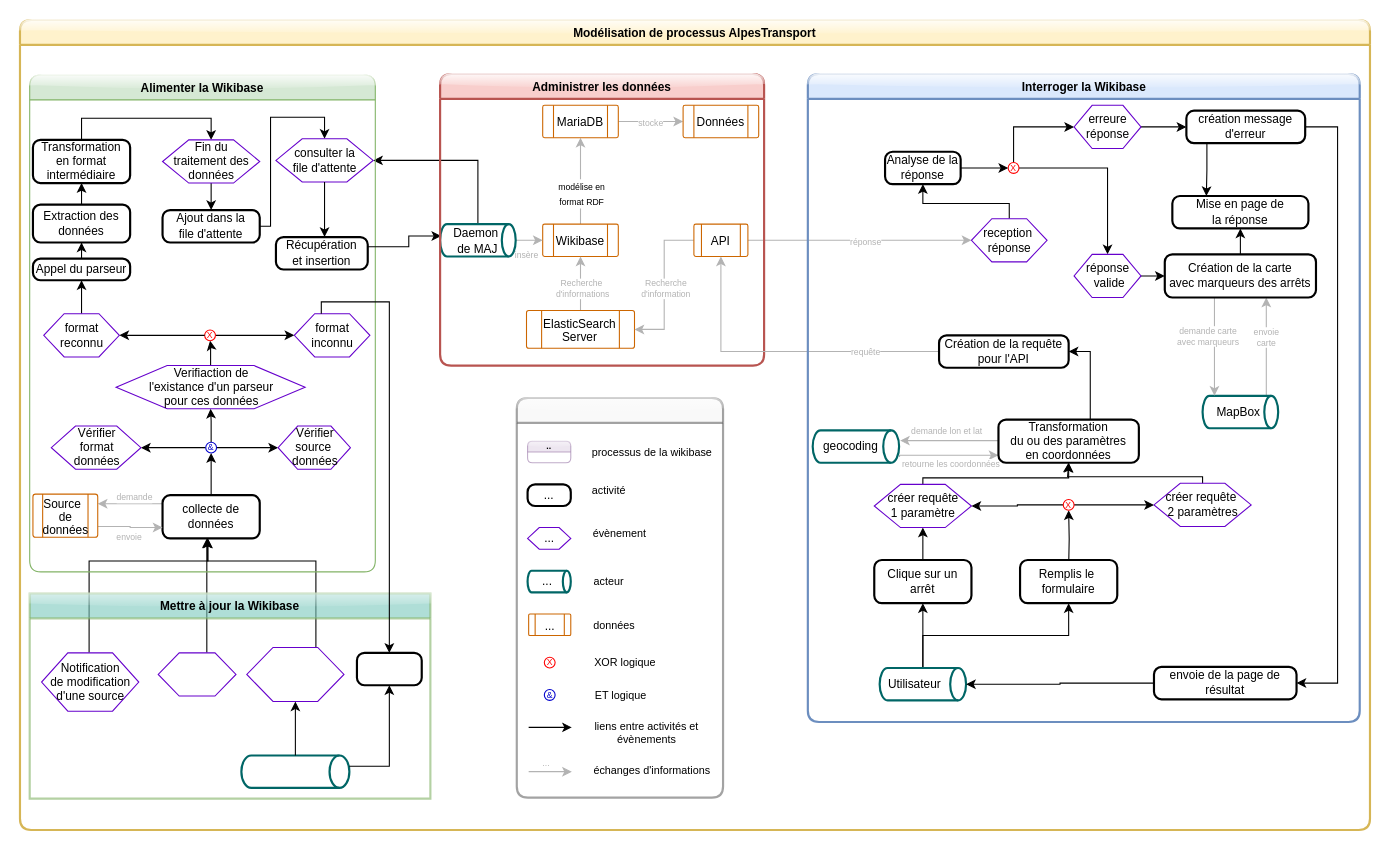
The diagram is 1389 pixels wide and 849 high, and some of its shapes have lost their labels. Each missing label, with the box of its shape:
Ajout d'une nouvelle source: (246, 646, 344, 701)
AlpesTransport: (240, 754, 350, 788)
Création du parseur: (355, 651, 422, 686)
Légende: (515, 396, 724, 798)
timer de mise à jour: (157, 652, 236, 696)
